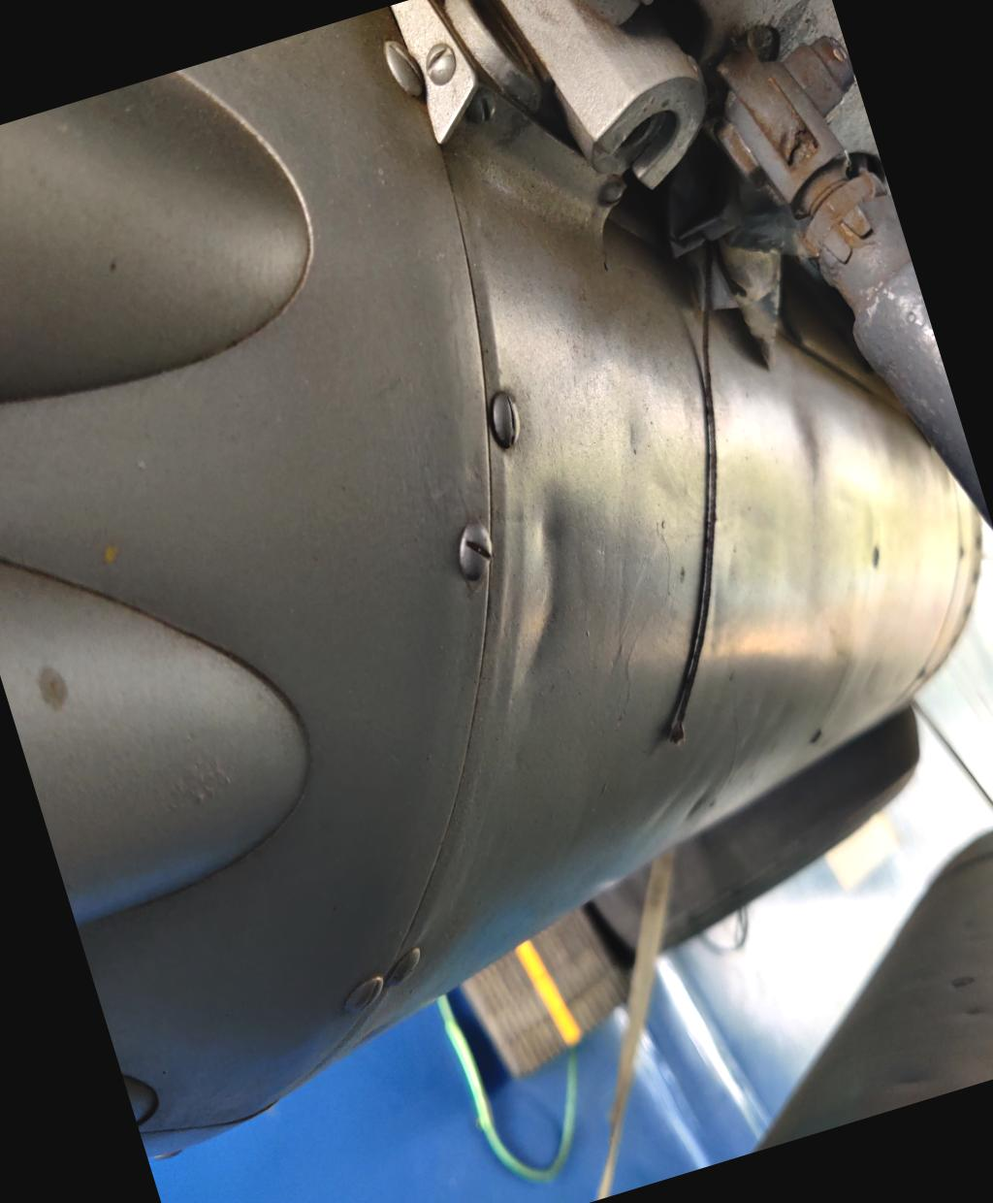dent: (382, 445, 605, 671)
